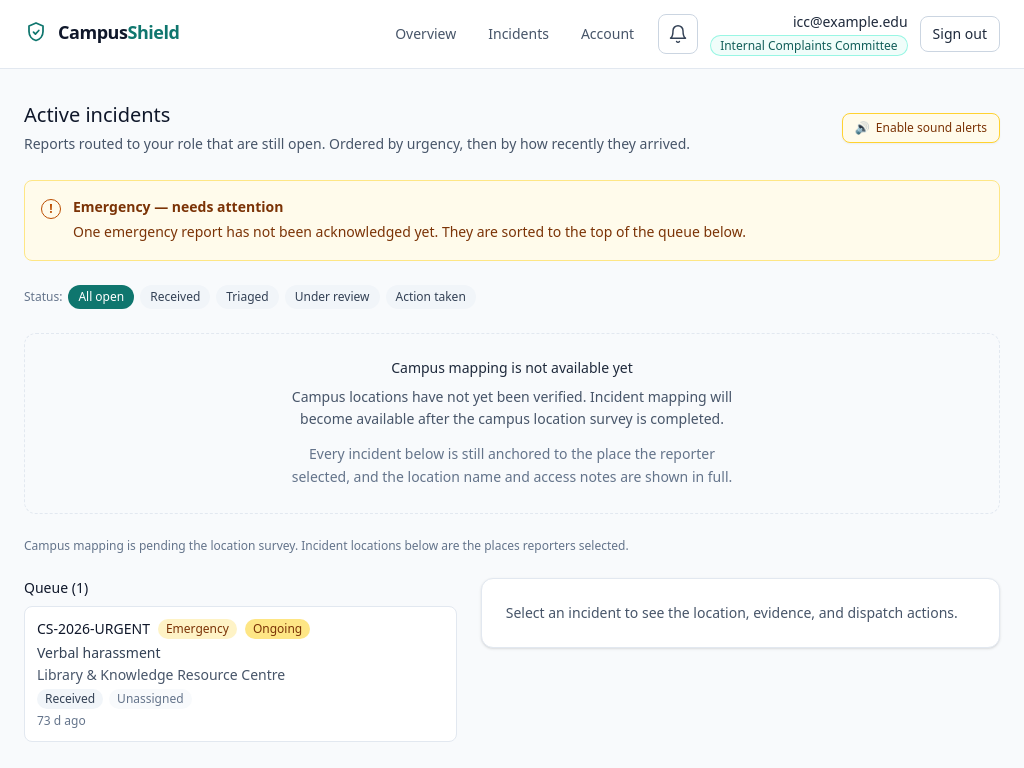
Test: IncidentsPage — incident detail › tells the responder plainly that an anonymous reporter cannot be contacted
Click the button "CS-2026-URGENT": (240, 674) x1=24 y1=606 x2=457 y2=742
(page scrolled)
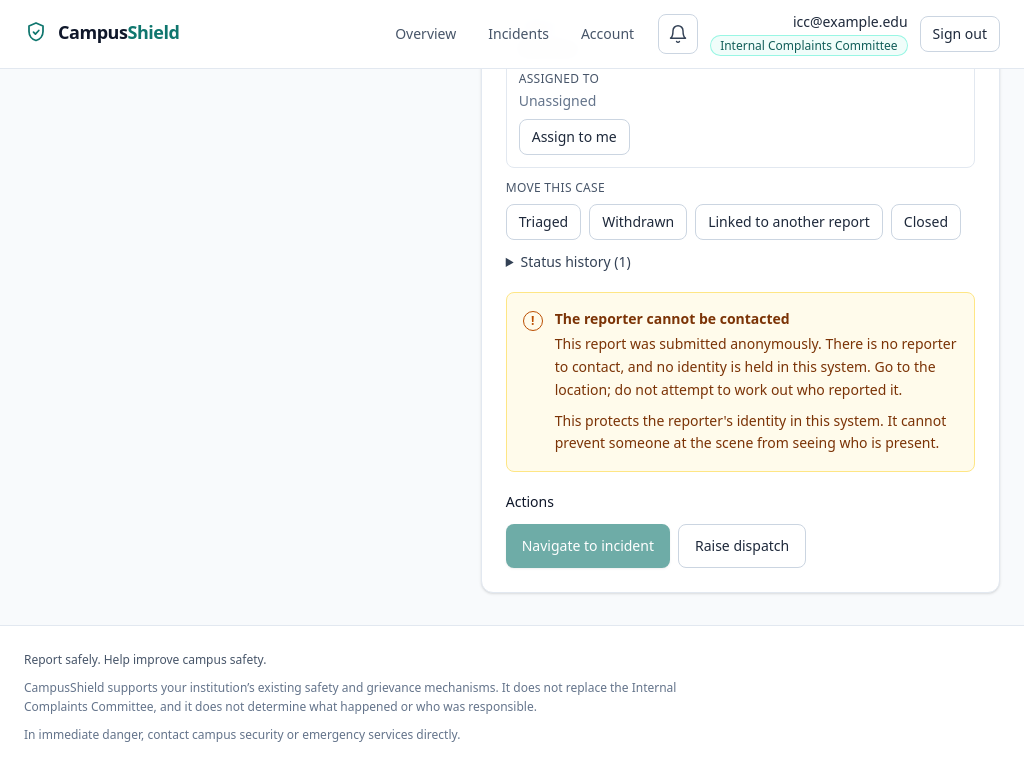
Now the text "The reporter cannot be contacted" is shown, box x1=555 y1=309 x2=790 y2=328
Now the text "do not attempt to work out who reported it" is shown, box x1=555 y1=334 x2=956 y2=399
Now the text "cannot prevent someone at the scene from seeing who is present" is shown, box x1=555 y1=410 x2=946 y2=452
